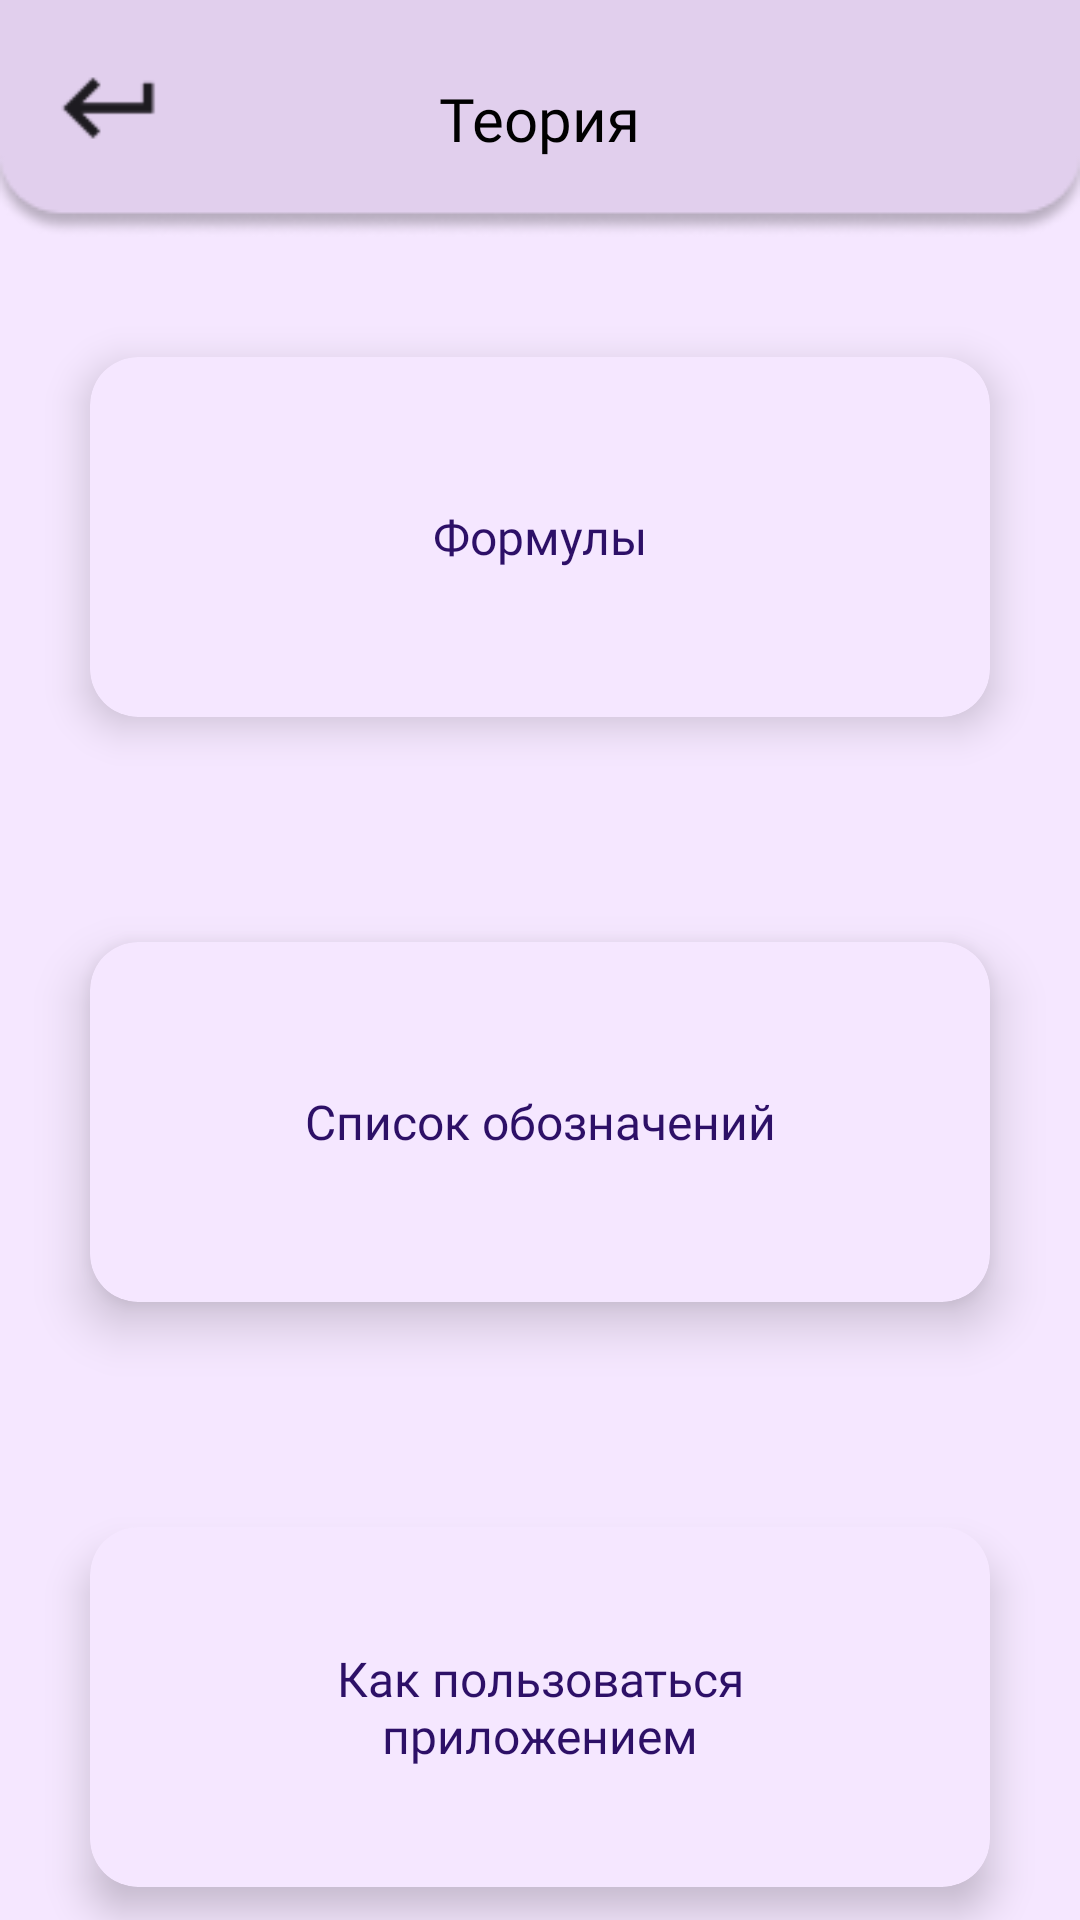

Icon bounding boxes for this 1080 x 1920 phone screenshot, format (x1, y1, x2, y2):
Назад: (63, 77, 155, 139)
